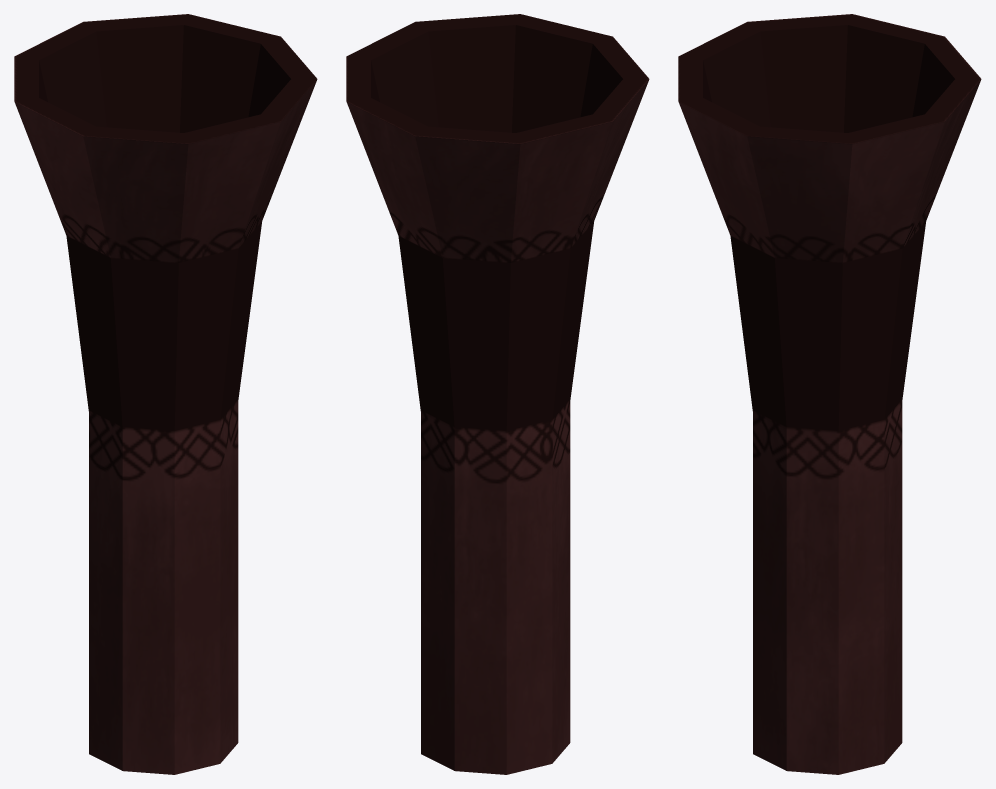
The model's file is Vase_v05_02.fbx.
3 views of the same model, side by side, from view 1: azimuth 30°, elevation 25°; view 2: azimuth 150°, elevation 25°; view 3: azimuth 270°, elevation 25° (orthographic).
Visible parts, largest first — view 1: Vase_v03; view 2: Vase_v03; view 3: Vase_v03.
Boxes of the visible parts, box(x1,y1,x2,y2) form: Vase_v03: box(14, 14, 317, 774); Vase_v03: box(346, 14, 649, 774); Vase_v03: box(678, 14, 981, 774).
Bounding box in the file's own units: 8.2 × 19.52 × 8.08.
